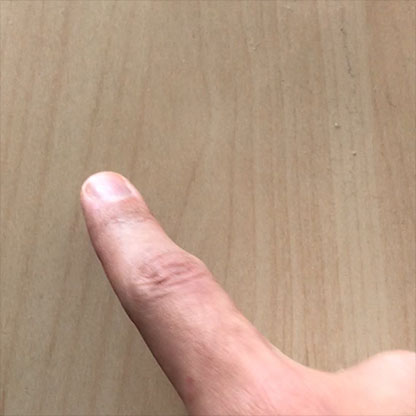fingertip: (74, 163, 151, 223)
